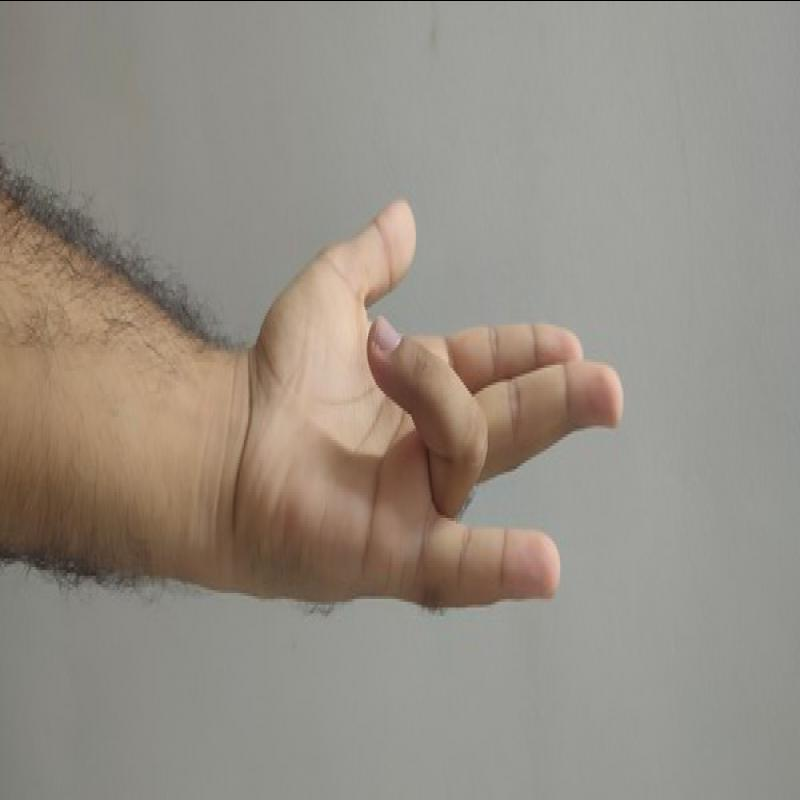Pathaaka: (232, 179, 633, 627)
